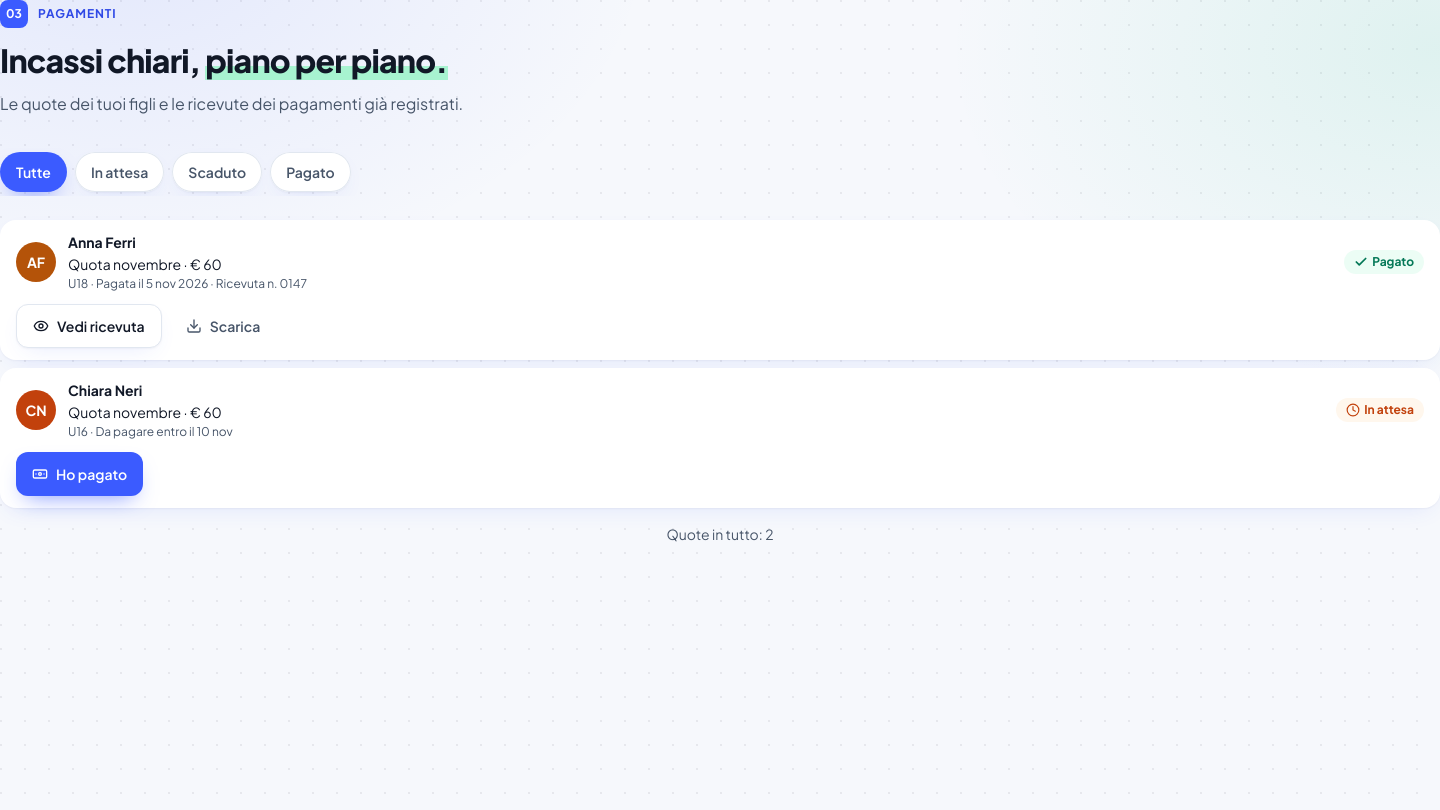
Test: QuotePage for an athlete or a guardian › shows only their own fees, without staff tools or write actions
The image size is (1440, 810).
Check: the text "Anna Ferri" is shown, box [68, 233, 136, 251]
Check: the heading "Incassi chiari, piano per piano." is shown, box [0, 40, 448, 80]
Click the button "Chiara Neri" at (36, 410), box [0, 368, 1439, 452]
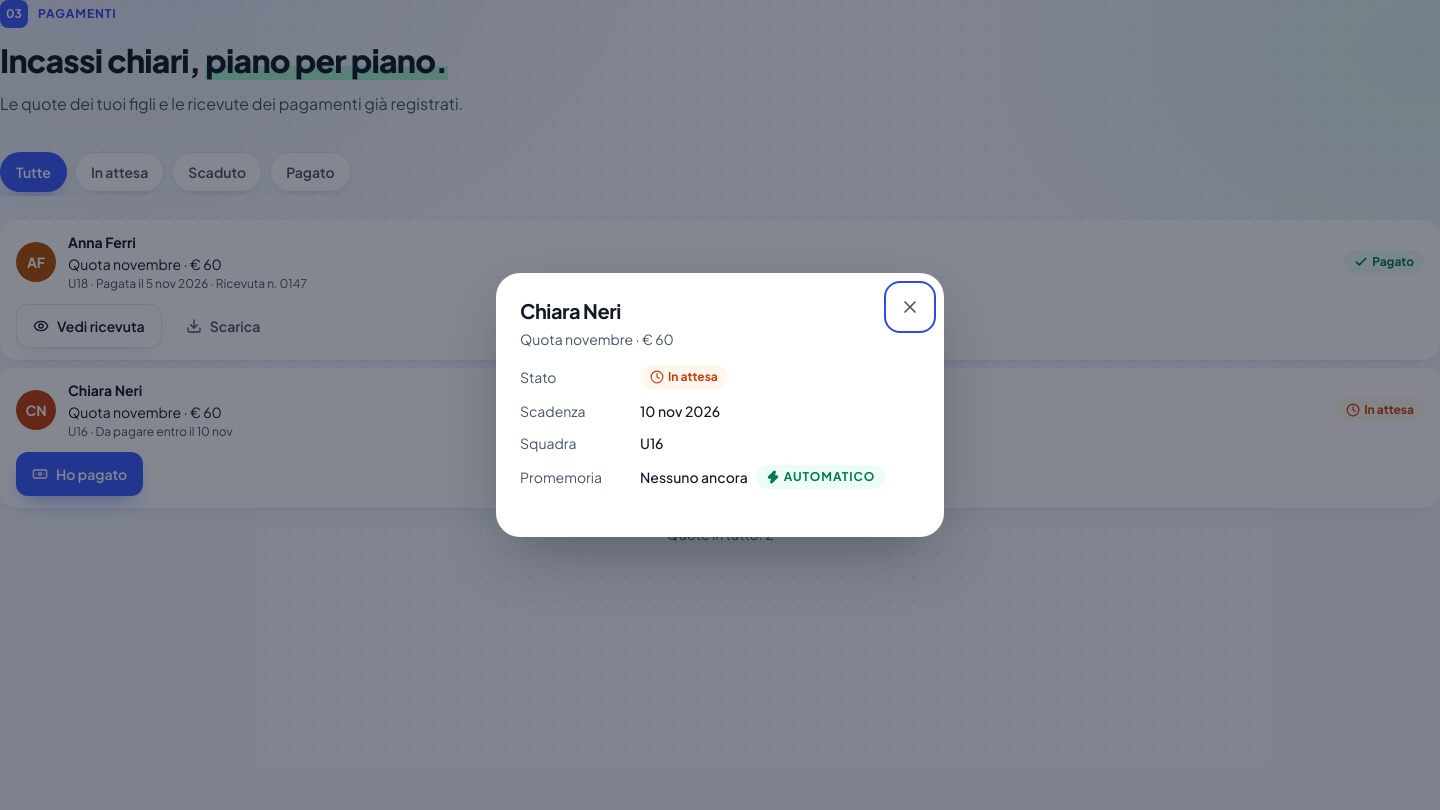
Press Escape
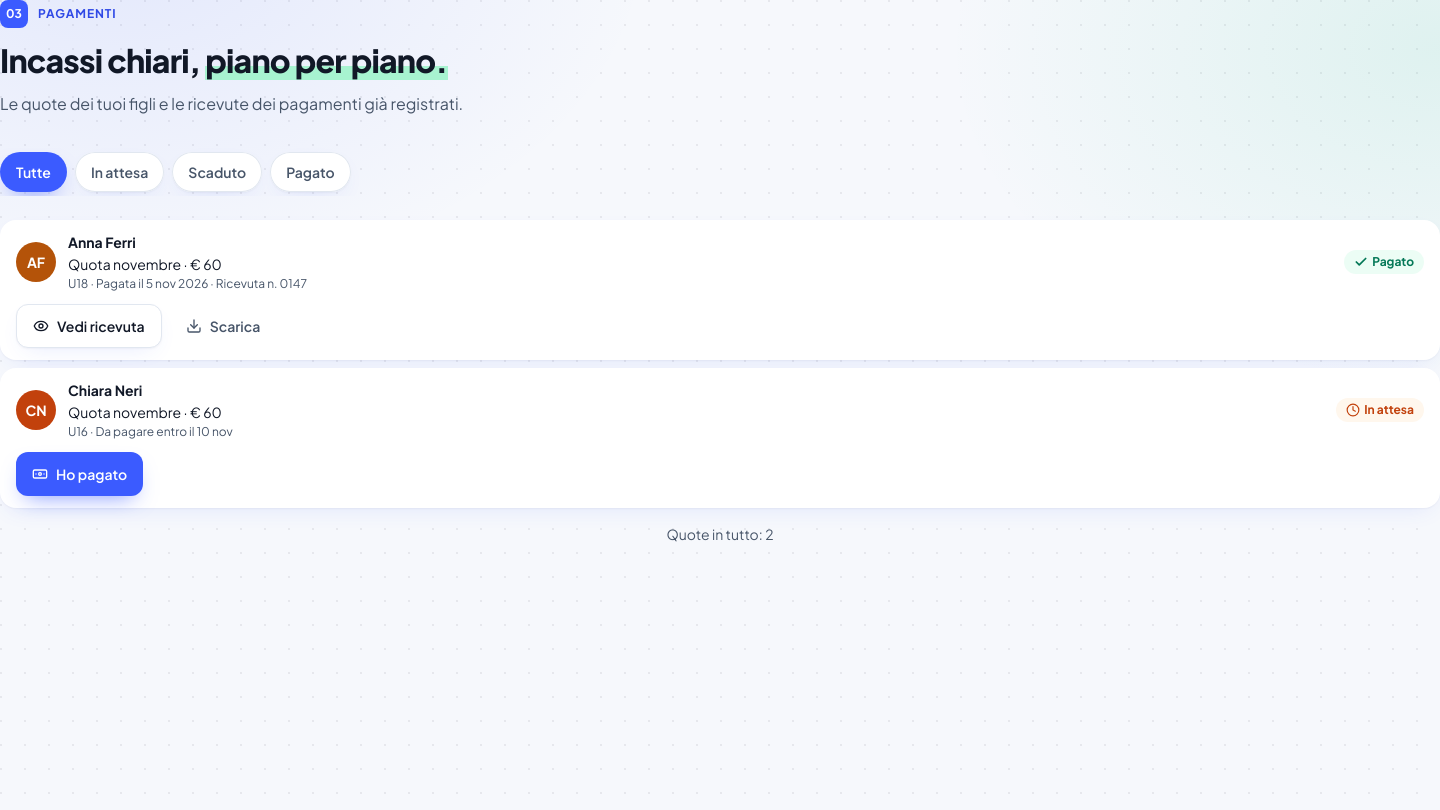
Click the button "Anna Ferri" at (36, 262), box [0, 220, 1439, 304]
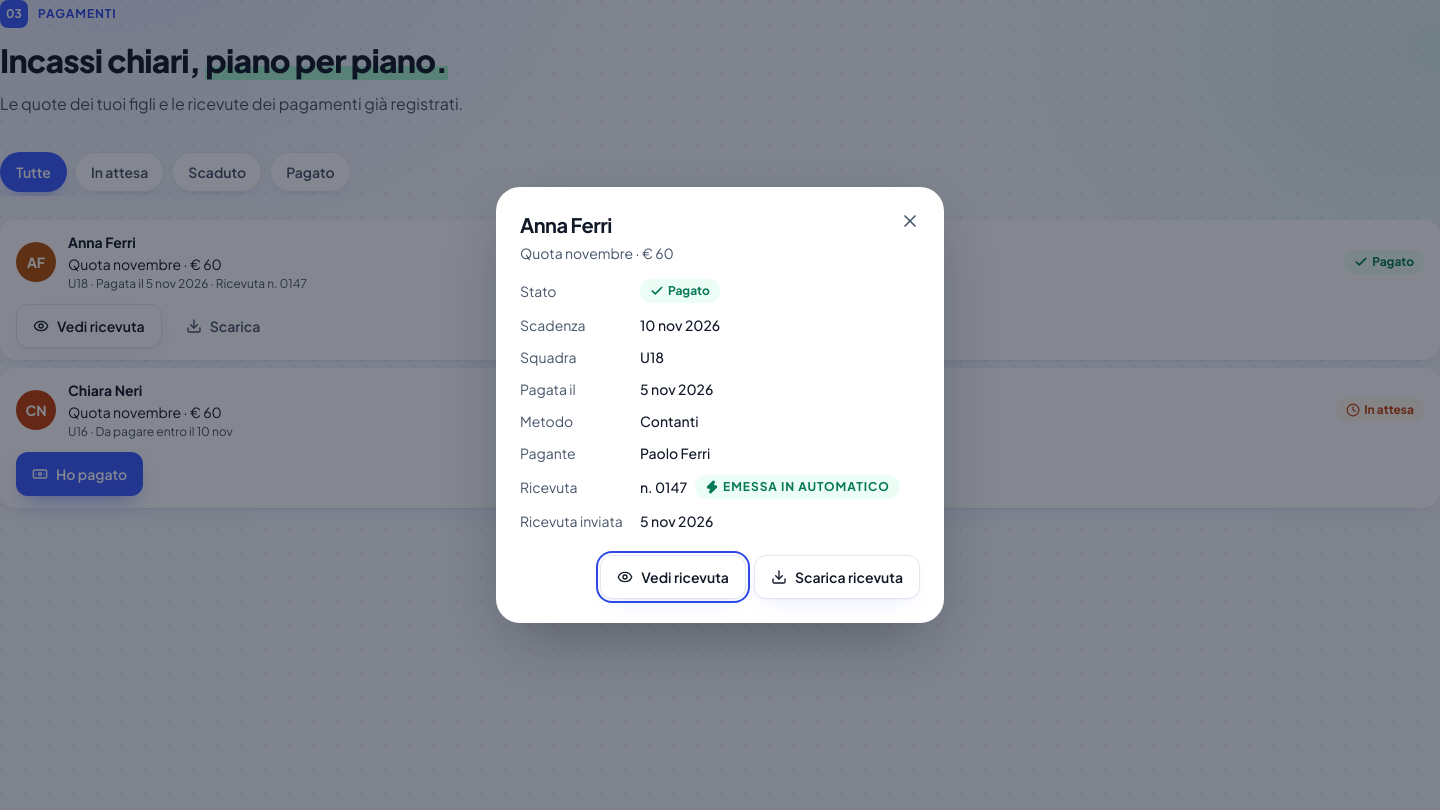
Check: the button "Scarica ricevuta" is shown, box [754, 555, 920, 599]
